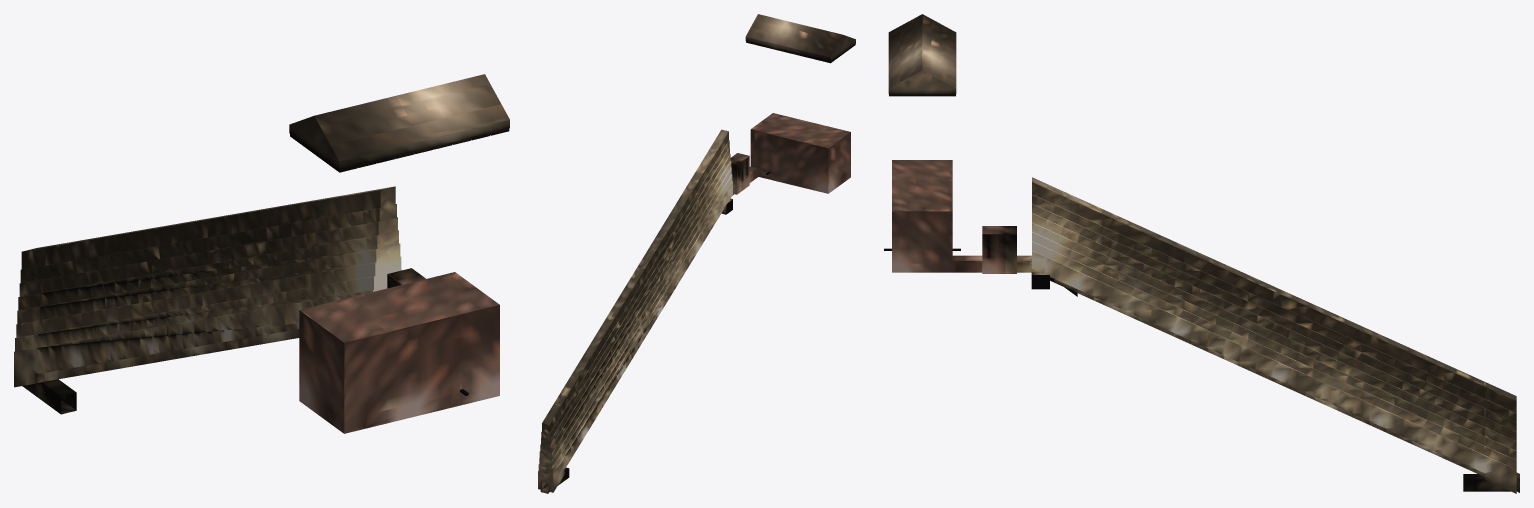
The model's file is khufu_upper.glb.
3 views of the same model, side by side, from view 1: azimuth 30°, elevation 25°; view 2: azimuth 150°, elevation 25°; view 3: azimuth 270°, elevation 25° (orthographic). The views are drawn at different scales.
Visible parts, largest first — view 1: limestone, campbell, solids; view 2: limestone, campbell, solids; view 3: limestone, campbell.
Part boxes in pixels (box(x1,y1,x2,y2)): limestone: box(14, 186, 499, 433); campbell: box(289, 74, 509, 169); solids: box(24, 128, 509, 385); limestone: box(538, 113, 850, 493); campbell: box(745, 14, 855, 61); solids: box(721, 41, 855, 214); limestone: box(884, 160, 1519, 493); campbell: box(888, 14, 956, 94).
Bounding box in the file's own units: 11.47 × 40.48 × 54.85.
